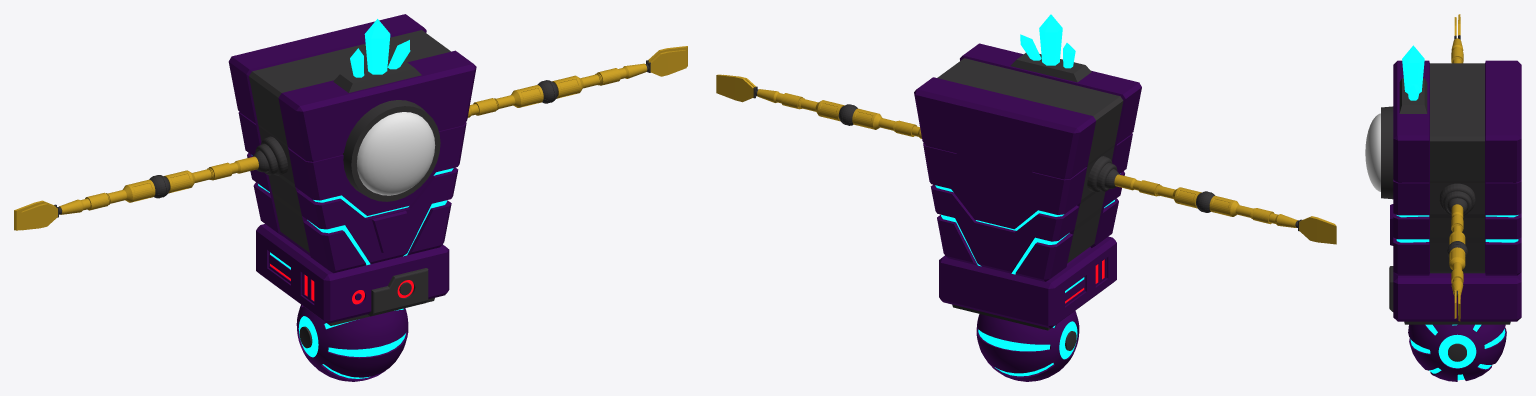
The model's file is DorzIA.fbx.
3 renders of one model, left to right at view 1: azimuth 30°, elevation 25°; view 2: azimuth 150°, elevation 25°; view 3: azimuth 270°, elevation 25°, orthographic. The views are drawn at different scales.
Parts seen in each view (by area): view 1: Cuerpo Inferior, Rueda, Sphere, Cylinder.001, Cylinder.009, Cylinder, Cube.005, Cube.008, Cylinder.002, Circle, Sphere.003; view 2: Cuerpo Inferior, Rueda, Cylinder.001, Cylinder.009, Cube.007, Cylinder.002, Circle, Sphere.003; view 3: Cuerpo Inferior, Rueda, Cylinder.009, Cylinder, Cylinder.001, Sphere, Circle, Cube.002, Cylinder.002, Cube.005, Sphere.002, Sphere.003 (+1 smaller).
Boxes of the visible parts, left/top/right/bottom form: Cuerpo Inferior: left=228, top=14, right=476, bottom=323; Rueda: left=296, top=304, right=408, bottom=381; Sphere: left=357, top=112, right=435, bottom=195; Cylinder.001: left=59, top=63, right=647, bottom=214; Cylinder.009: left=333, top=19, right=421, bottom=92; Cylinder: left=343, top=100, right=440, bottom=201; Cube.005: left=368, top=268, right=428, bottom=316; Cube.008: left=21, top=50, right=686, bottom=230; Cylinder.002: left=85, top=68, right=620, bottom=210; Circle: left=255, top=136, right=287, bottom=175; Sphere.003: left=149, top=80, right=558, bottom=198; Cuerpo Inferior: left=914, top=43, right=1141, bottom=328; Rueda: left=976, top=311, right=1079, bottom=381; Cylinder.001: left=757, top=89, right=1297, bottom=227; Cylinder.009: left=1010, top=14, right=1091, bottom=82; Cube.007: left=716, top=74, right=1336, bottom=244; Cylinder.002: left=781, top=93, right=1274, bottom=224; Circle: left=1087, top=156, right=1117, bottom=192; Sphere.003: left=838, top=104, right=1214, bottom=212; Cuerpo Inferior: left=1390, top=60, right=1521, bottom=321; Rueda: left=1408, top=324, right=1506, bottom=381; Cylinder.009: left=1399, top=45, right=1427, bottom=113; Cylinder: left=1381, top=106, right=1393, bottom=199; Cylinder.001: left=1449, top=38, right=1465, bottom=295; Sphere: left=1365, top=113, right=1380, bottom=191; Circle: left=1439, top=183, right=1475, bottom=215; Cube.002: left=1404, top=321, right=1510, bottom=324; Cylinder.002: left=1451, top=48, right=1463, bottom=283; Cube.005: left=1389, top=266, right=1393, bottom=311; Sphere.002: left=1447, top=198, right=1467, bottom=213; Sphere.003: left=1447, top=241, right=1467, bottom=257.
Size of the model in its own units: 538 by 287 by 123.
